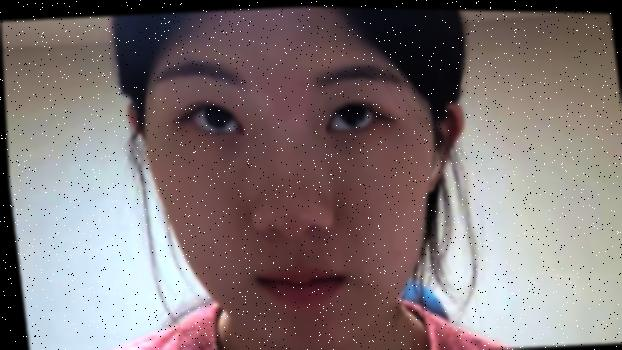eye: (335, 94, 367, 125), (202, 99, 234, 129)
iris: (320, 101, 379, 134), (187, 102, 242, 135)
